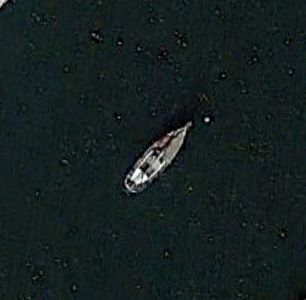boat: (123, 119, 194, 194)
